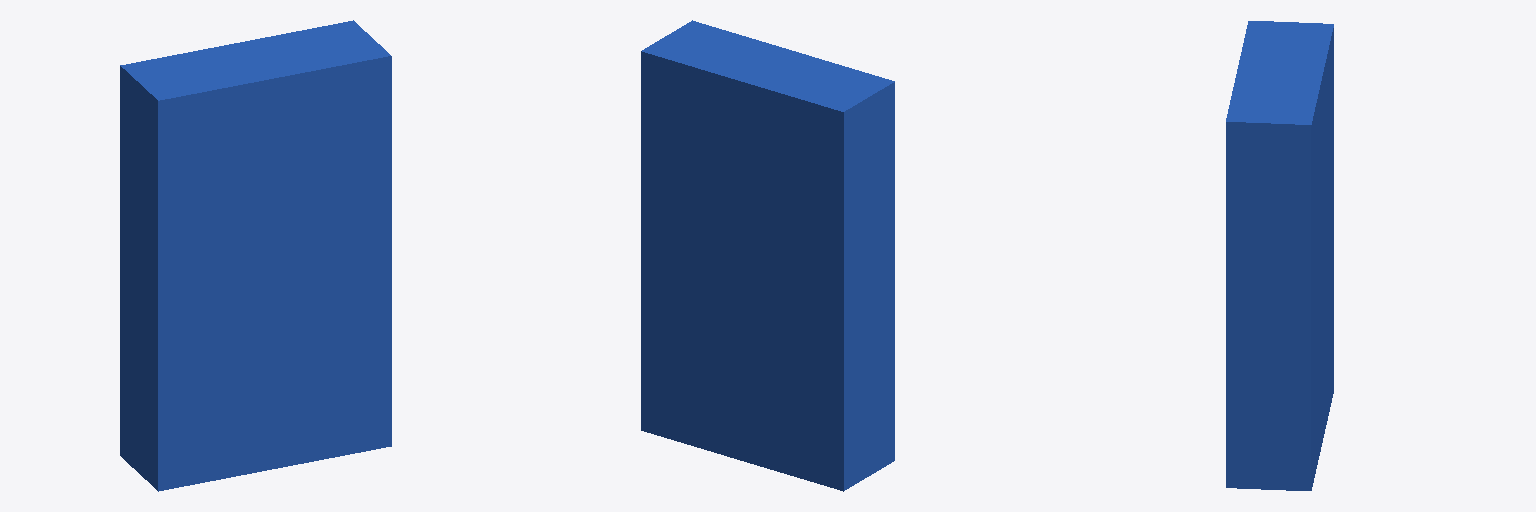
URDF robot description (Domino_20):
<robot name="Domino_20" version="1.0">
  <link name="Domino_20_link">
    <collision name="Cube.019_collision">
      <origin rpy="0.00000 0.00000 1.47573" xyz="-1.09455 0.70982 0.25000"/>
      <geometry>
        <box size="0.10662 0.29754 0.50000"/>
      </geometry>
    </collision>
    <inertial>
      <inertia ixx="0.00218" ixy="0.00006" ixz="0.00000" iyy="0.00282" iyz="0.00000" izz="0.00083"/>
      <origin rpy="0.00000 0.00000 0.00000" xyz="-1.09455 0.70982 0.25000"/>
      <mass value="0.10000"/>
    </inertial>
    <visual name="Cube.019">
      <material name="turnarrow"/>
      <origin rpy="0.00000 0.00000 1.47573" xyz="-1.09455 0.70982 0.25000"/>
      <geometry>
        <box size="0.10662 0.29754 0.50000"/>
      </geometry>
    </visual>
  </link>
  <material name="turnarrow">
    <color rgba="0.23137 0.44706 0.80000 1.00000"/>
  </material>
</robot>

--- Render facts (derived) ---
Views: 3 orthographic renders of the robot side by side, from view 1: azimuth 30°, elevation 25°; view 2: azimuth 150°, elevation 25°; view 3: azimuth 270°, elevation 25°.
Model Domino_20 with 1 links and 0 joints (none), rooted at Domino_20_link, posed all joints at 0.
Links seen in each view (by area): view 1: Domino_20_link; view 2: Domino_20_link; view 3: Domino_20_link.
Boxes of the visible links, bbox=[...] form: Domino_20_link: bbox=[120, 20, 391, 491]; Domino_20_link: bbox=[641, 20, 894, 491]; Domino_20_link: bbox=[1226, 21, 1333, 490].
Size in the robot's own frame: 0.3063 by 0.1344 by 0.5 metres.
Geometry: primitives only (box / cylinder / sphere), no mesh files.